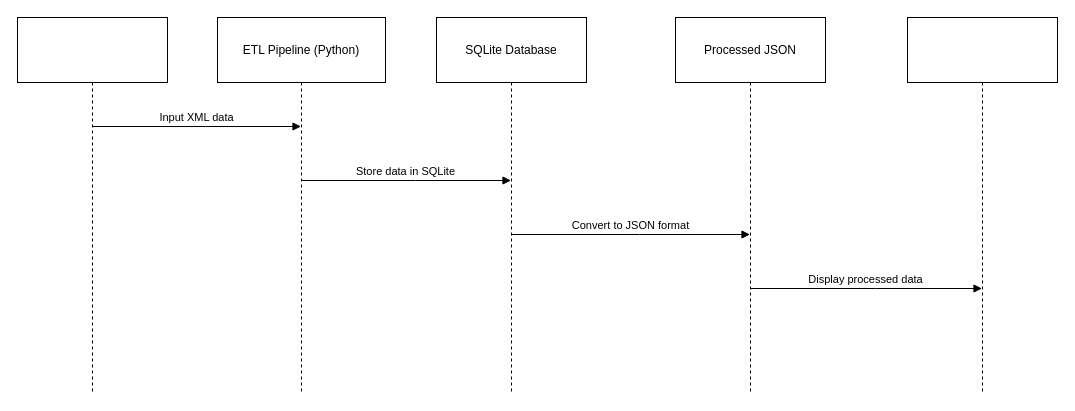
Image size: 1075x411. Some labels were removed from this diagram. The shapes that lost their labels are listed below. From the top down, each one's box as (x1, y1, x2, y2) in pixels, then its label:
(16, 16, 168, 394): MoMo XML Input
(906, 16, 1058, 394): Web Dashboard
